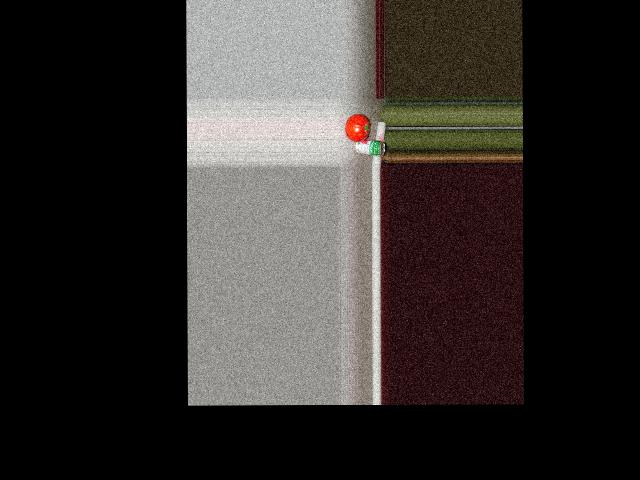tomato: (345, 114, 368, 141)
